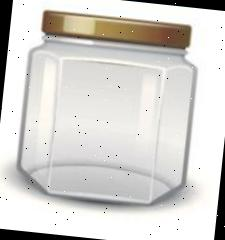glass: (10, 9, 202, 214)
